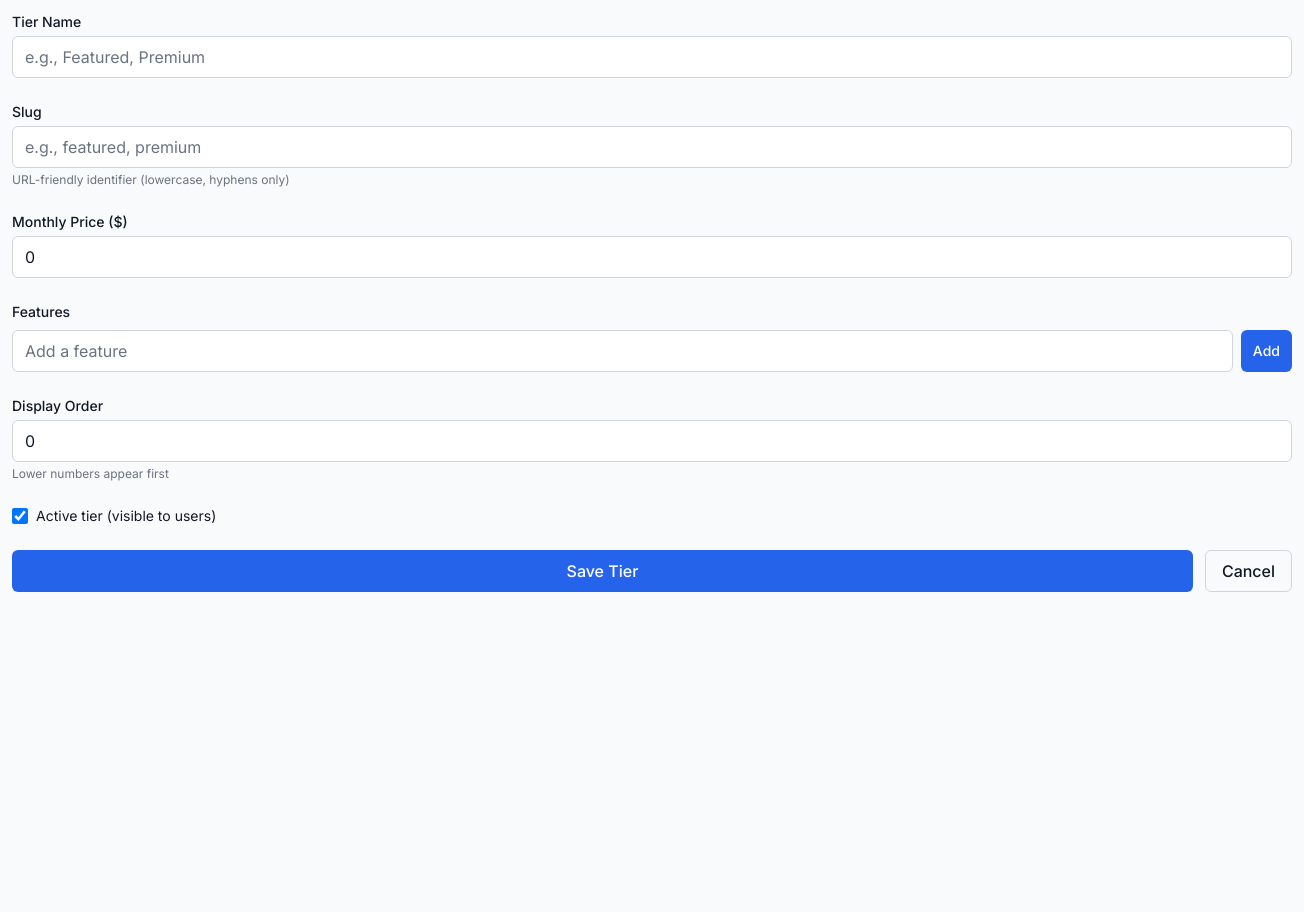
Test: TierForm Component › Features Array Validation › should remove features from the list
This screenshot has width=1304, height=912.
In the field with placeholder "Add a feature": x=622, y=351 [12,330,1233,372], type "Feature 1"
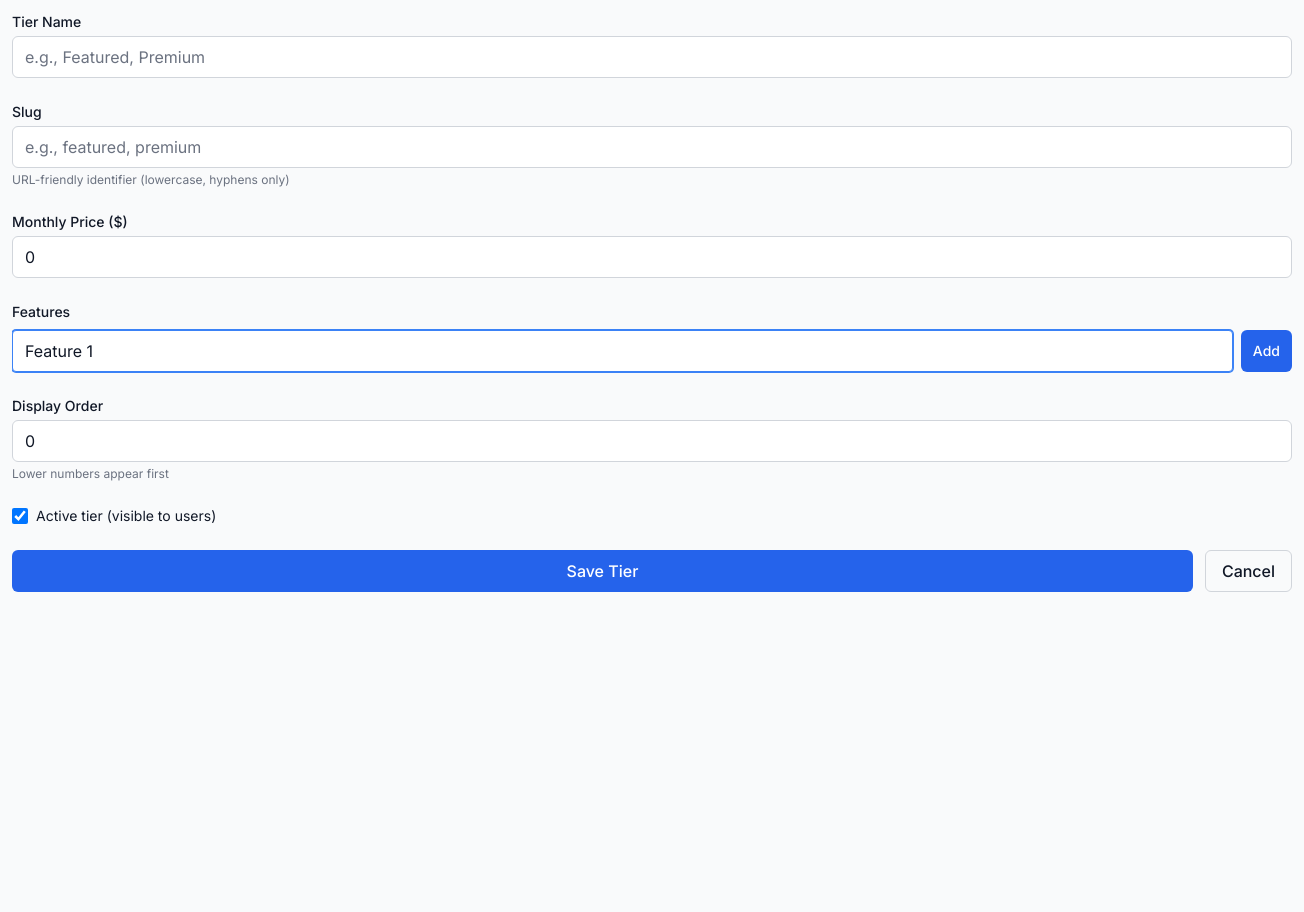
Click the button "Add": x=1266, y=351 [1241,330,1292,372]
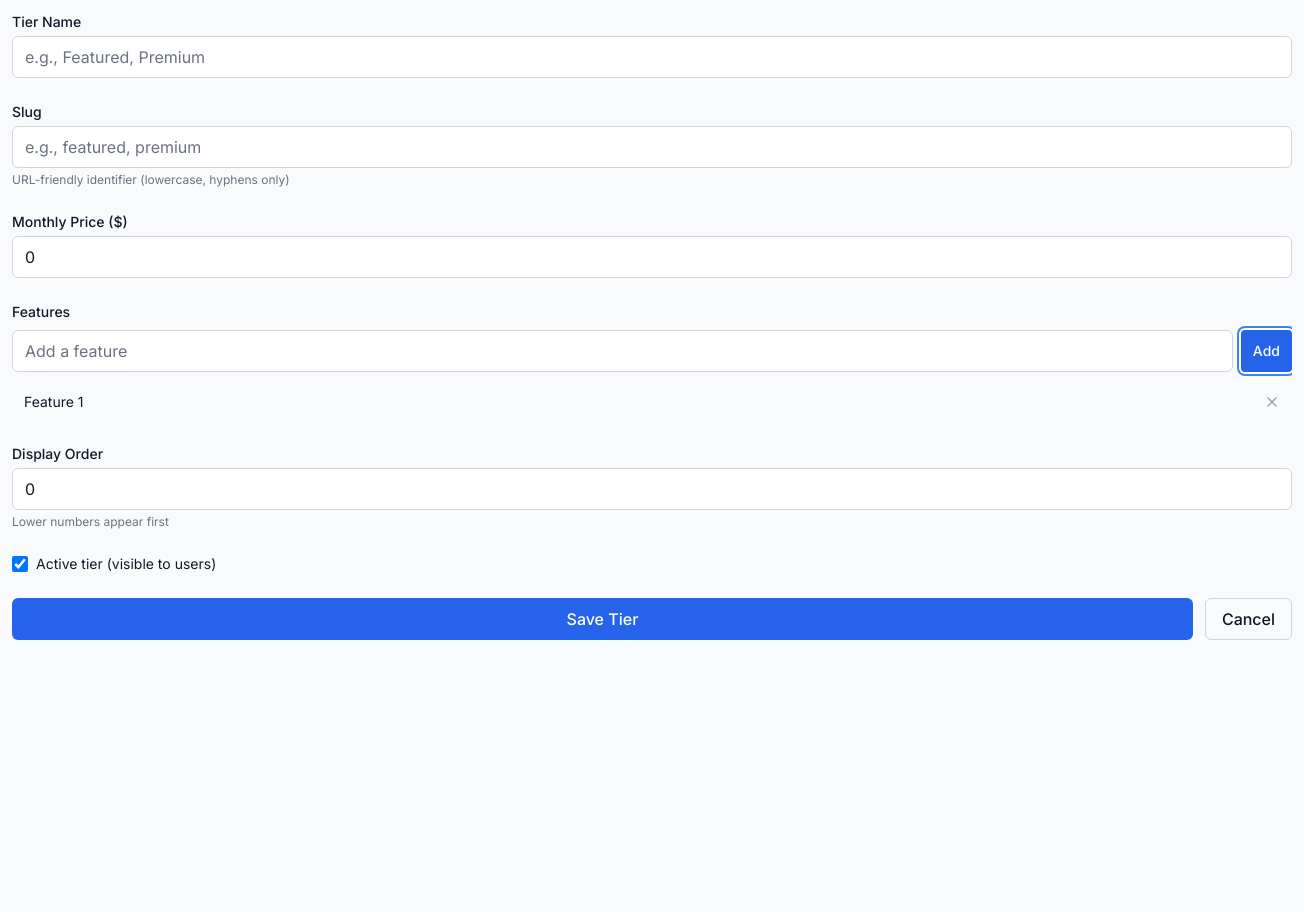
In the field with placeholder "Add a feature": x=622, y=351 [12,330,1233,372], type "Feature 2"
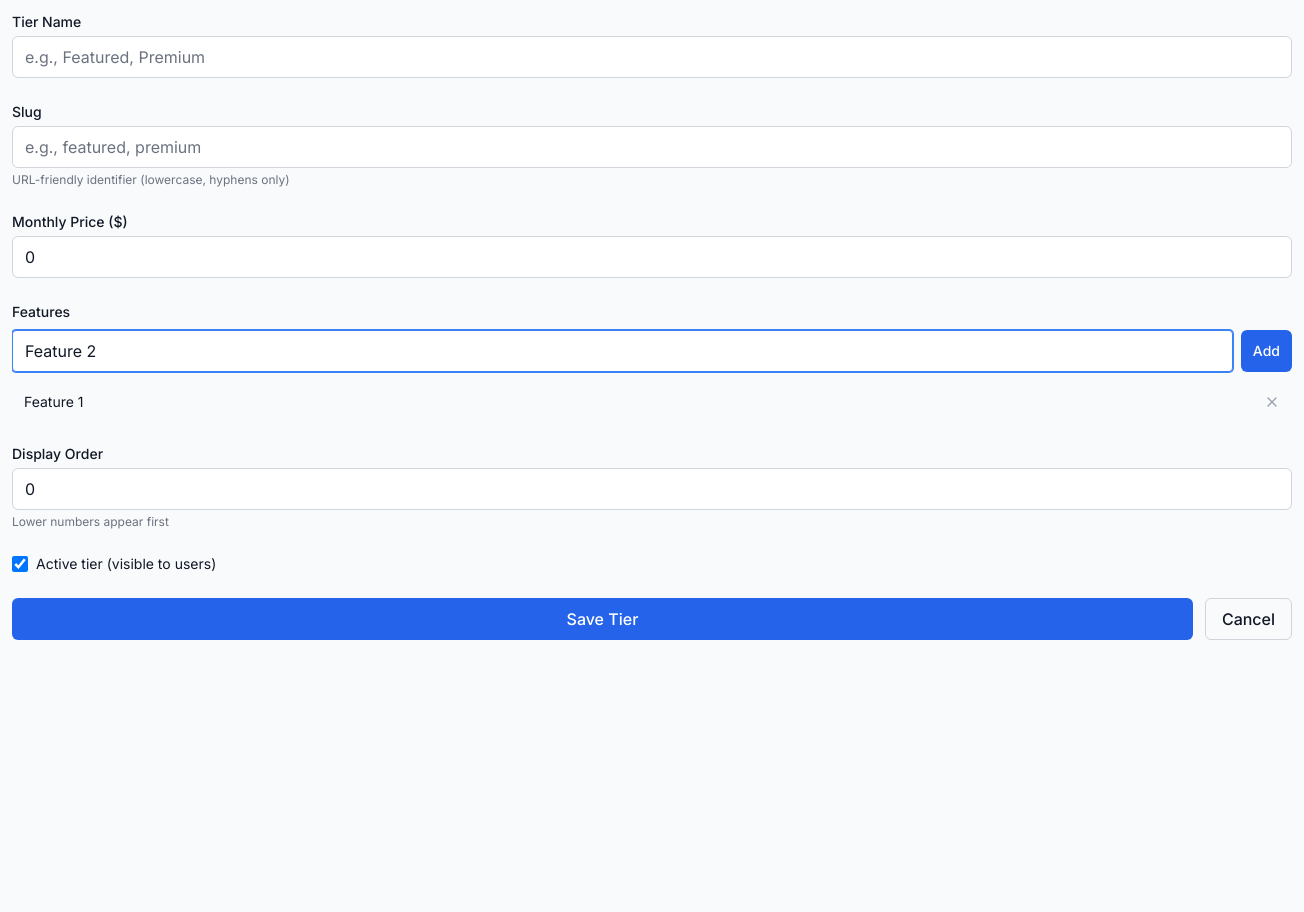
Click the button "Add": x=1266, y=351 [1241,330,1292,372]
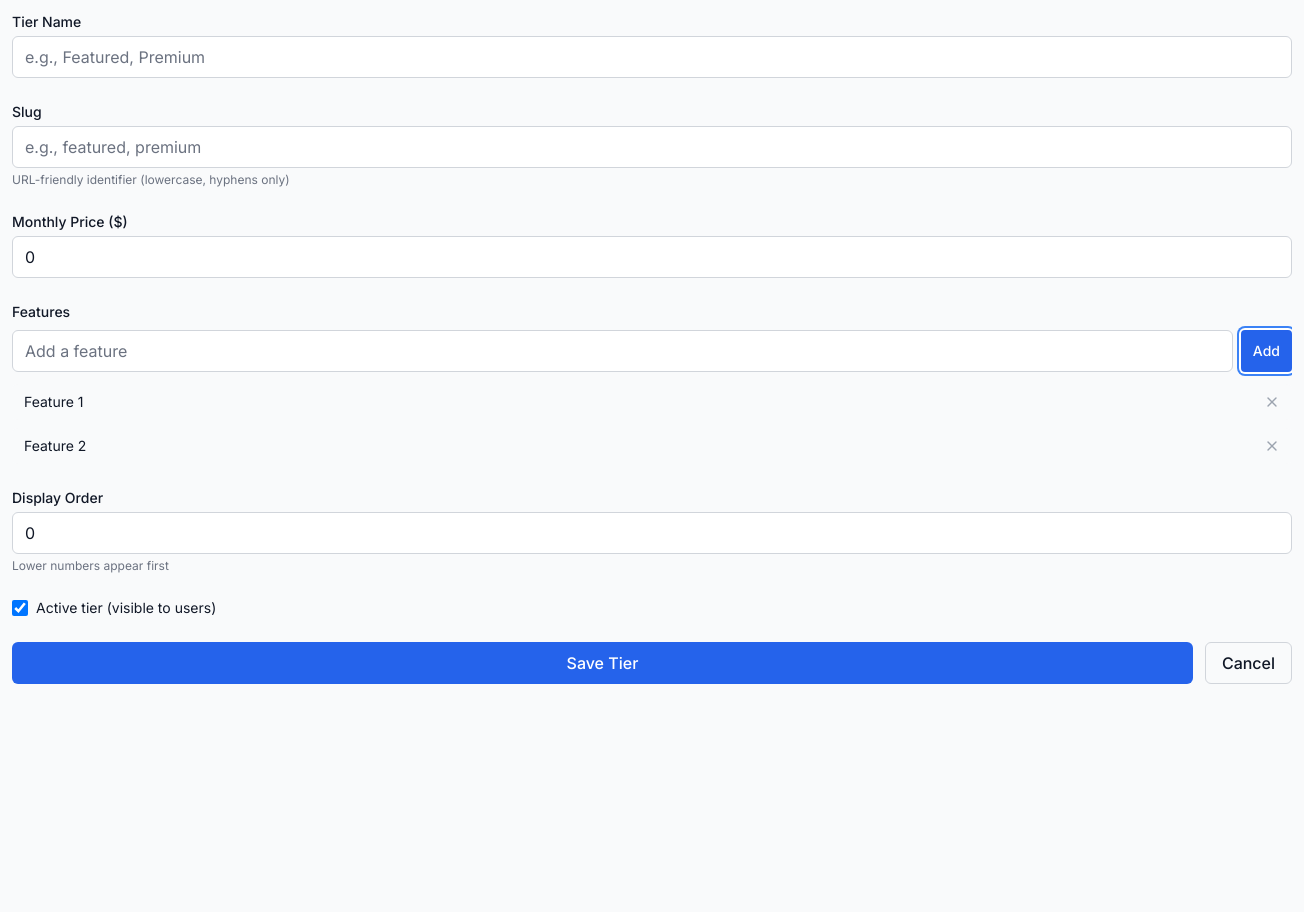
Now the text "Feature 1" is shown, box [24,392,84,412]
Now the text "Feature 2" is shown, box [24,436,86,456]
First X button removes Feature 1
Click the button without text in the row of "Feature 1": x=1272, y=402 [1264,394,1280,410]
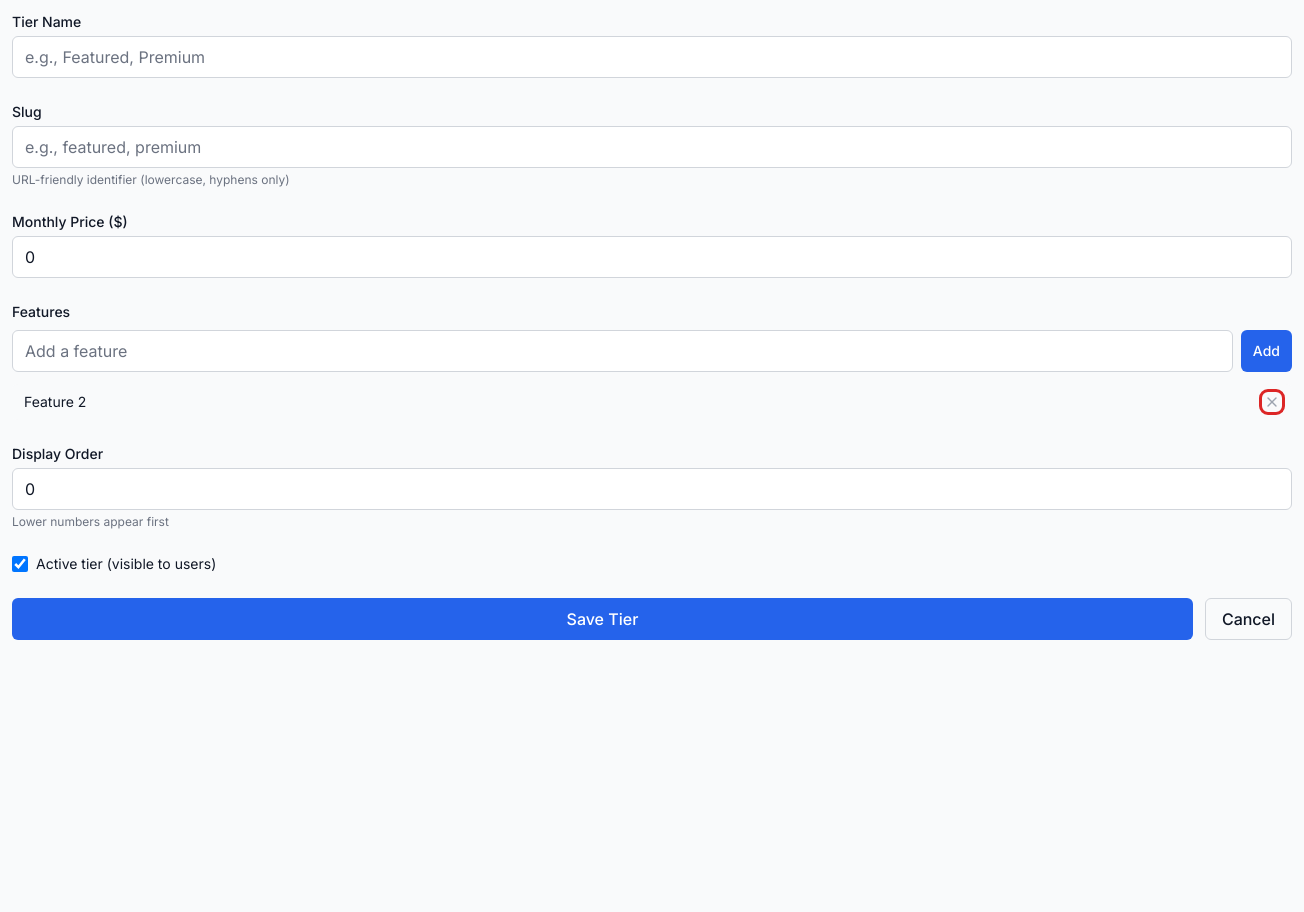
Now the text "Feature 1" is gone
Now the text "Feature 2" is shown, box [24,392,86,412]
